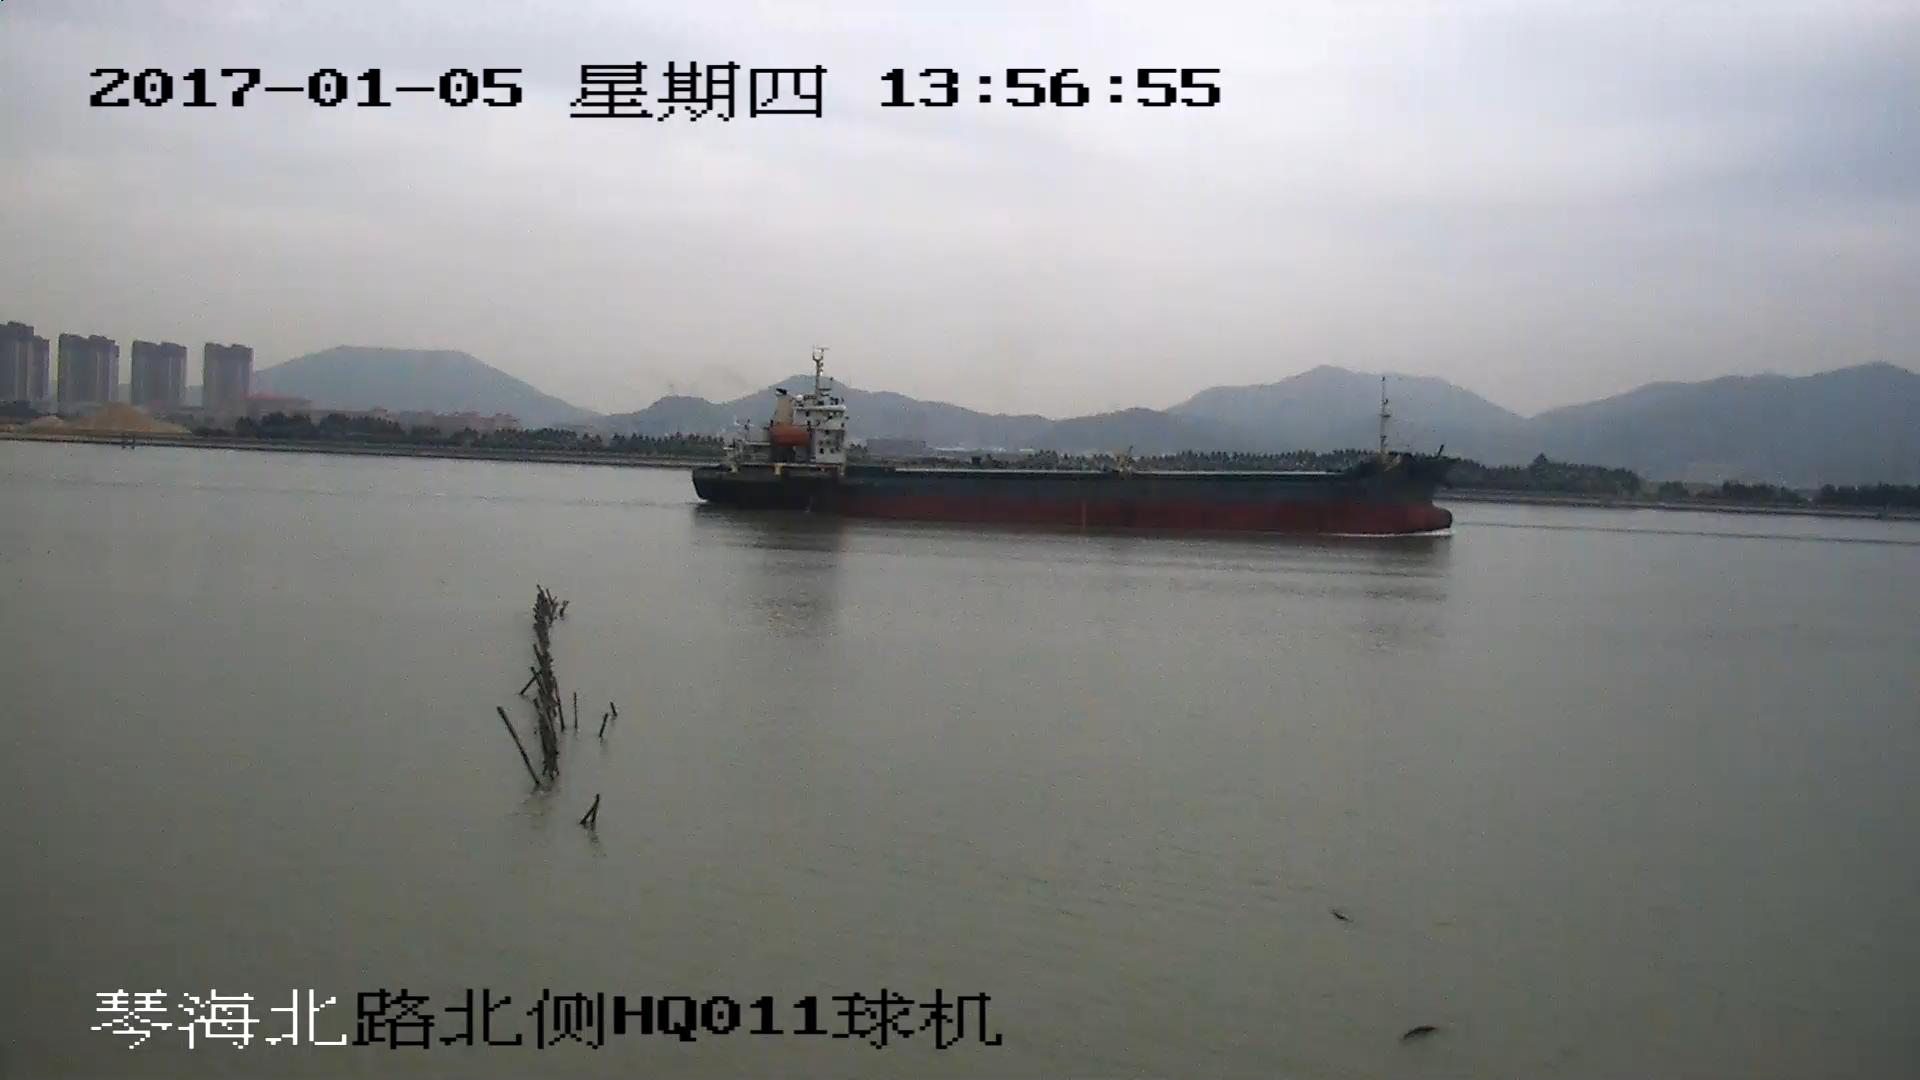general cargo ship: (690, 347, 1449, 535)
